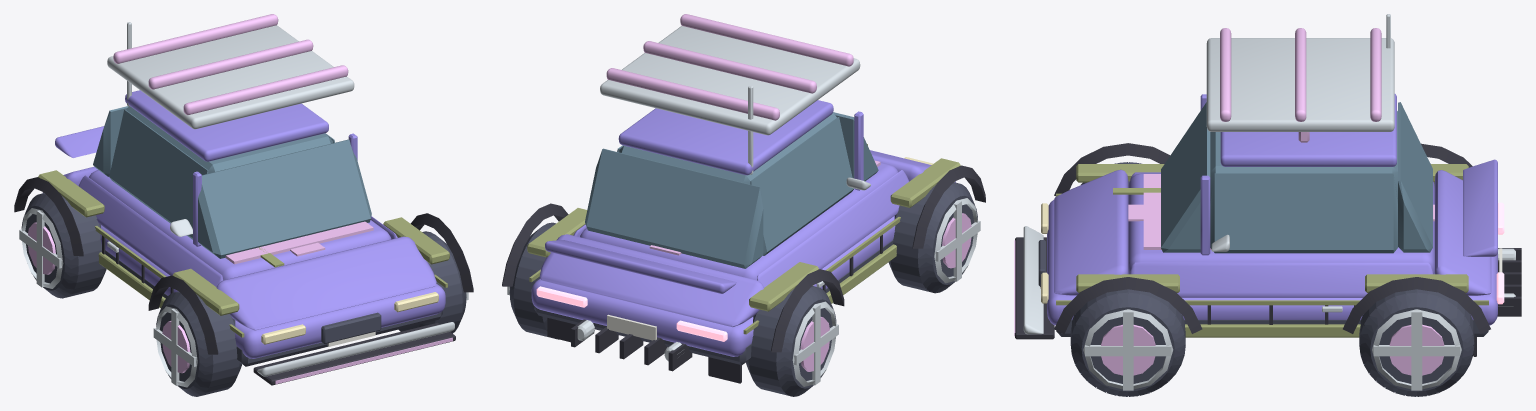
The model's file is signal_shuttle.fbx.
3 views of the same model, side by side, from view 1: azimuth 30°, elevation 25°; view 2: azimuth 150°, elevation 25°; view 3: azimuth 270°, elevation 25° (orthographic). The views are drawn at different scales.
Parts seen in each view (by area): view 1: Body, Glass, Accent2, Accent3, Trim, Accent, Wheel_FR, Wheel_RR, Metal, Trim2, Wheel_FL, Metal2 (+2 smaller); view 2: Body, Glass, Accent2, Trim, Accent3, Accent, Wheel_RR, Wheel_FR, Metal, Wheel_RL, Metal2, Trim2 (+2 smaller); view 3: Body, Glass, Accent2, Trim, Accent, Metal, Wheel_RL, Wheel_FL, Accent3, Metal2, Trim2, Light (+2 smaller).
Boxes of the visible parts, x1,y1,x2,y2 form: Body: (42, 90, 445, 358); Glass: (93, 106, 371, 258); Accent2: (107, 22, 454, 376); Accent3: (113, 14, 373, 264); Trim: (14, 177, 473, 385); Accent: (38, 170, 449, 337); Wheel_FR: (156, 291, 241, 396); Wheel_RR: (21, 193, 106, 298); Metal: (19, 208, 468, 387); Trim2: (105, 250, 442, 366); Wheel_FL: (399, 231, 466, 333); Metal2: (28, 222, 190, 373); Body: (531, 100, 955, 356); Glass: (585, 112, 878, 268); Accent2: (600, 26, 870, 190); Trim: (502, 165, 985, 383); Accent3: (606, 14, 880, 166); Accent: (527, 144, 960, 334); Wheel_RR: (746, 286, 836, 396); Wheel_FR: (888, 182, 977, 293); Metal: (507, 198, 980, 386); Wheel_RL: (509, 222, 558, 339); Metal2: (800, 213, 971, 371); Trim2: (534, 240, 893, 364); Body: (1047, 94, 1497, 325); Glass: (1161, 102, 1432, 253); Accent2: (1023, 14, 1394, 334); Trim: (1015, 143, 1521, 356); Accent: (1056, 164, 1488, 337); Metal: (1083, 248, 1515, 390); Wheel_RL: (1359, 289, 1474, 396); Wheel_FL: (1070, 289, 1185, 396); Accent3: (1143, 28, 1381, 249); Metal2: (1101, 324, 1444, 375); Trim2: (1038, 240, 1488, 336); Light: (1014, 132, 1434, 336).
Size of the model in its own units: 3.41 by 3.15 by 5.07.
